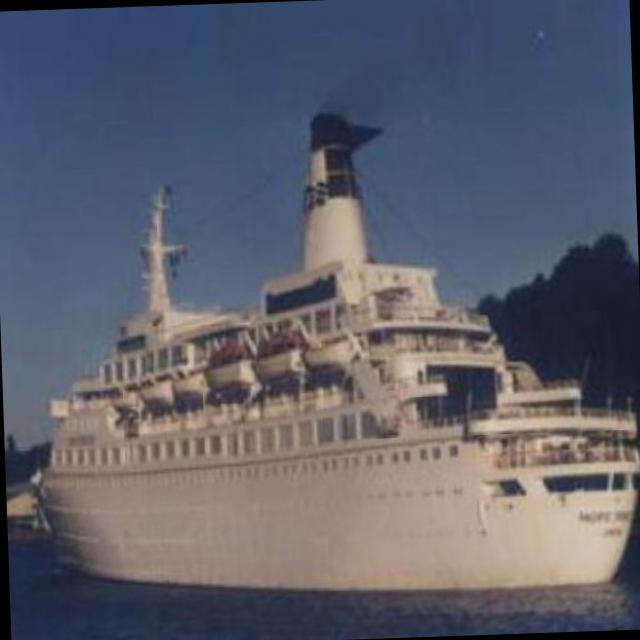boat: (31, 305, 640, 609)
